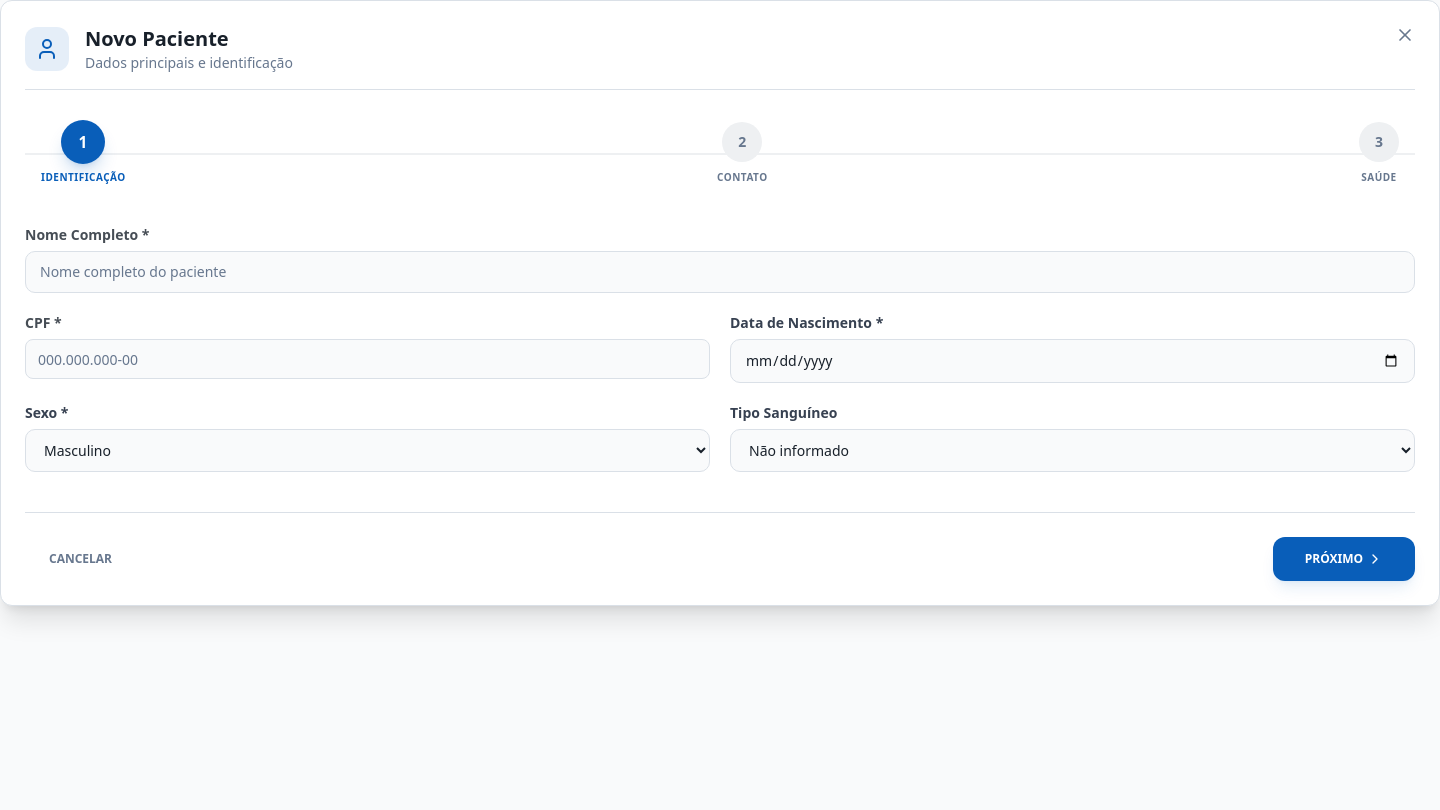
Test case: InlinePatientForm › navigates through steps correctly with validation
Note: Fill required fields
Step 1. Type "John Doe" into the field labelled "Nome Completo *" → (720, 272), box [25,251,1415,293]
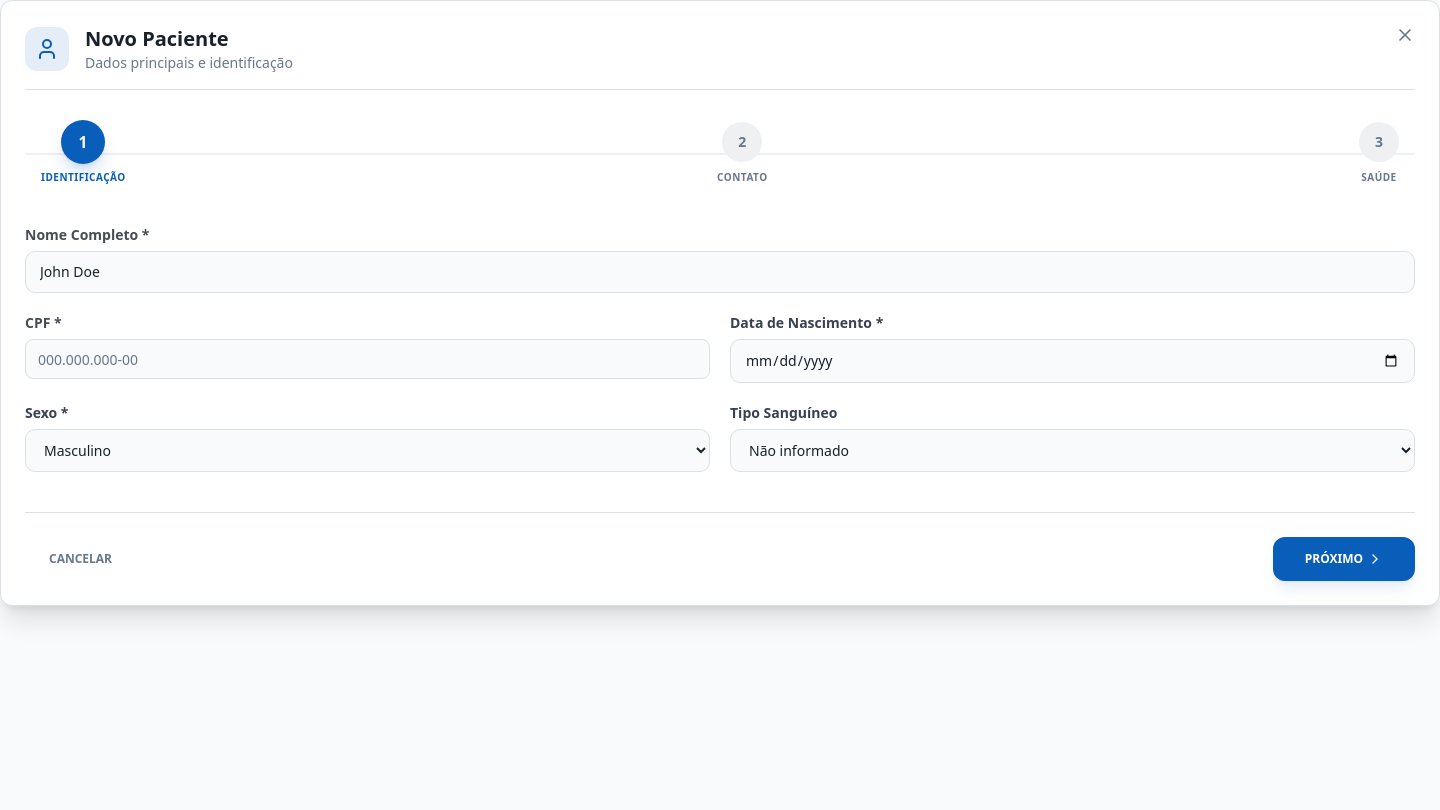
Step 2. Type "12345678900" into the field labelled "CPF *" → (368, 359), box [25,339,710,379]
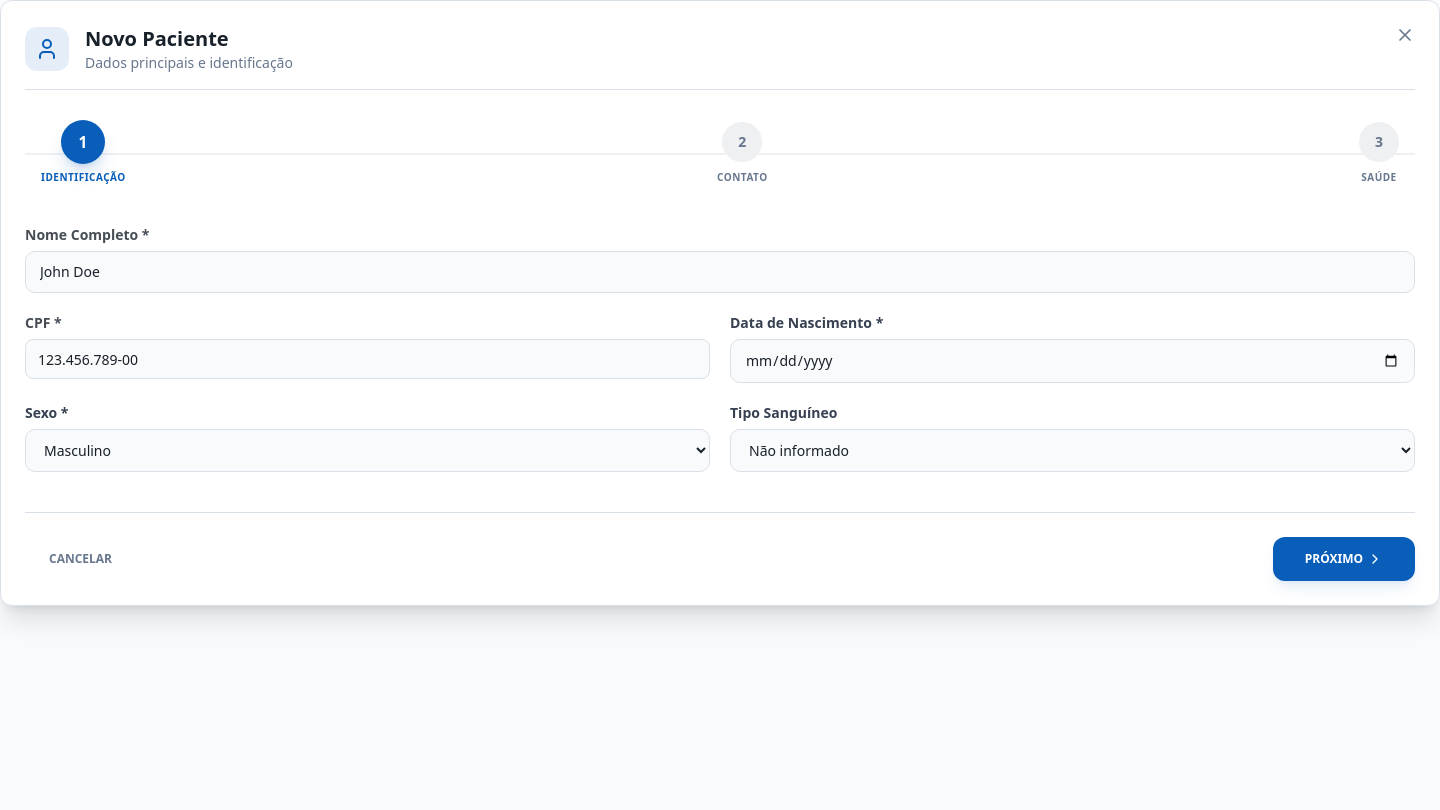
Step 3. Type "1990-01-01" into the date field labelled "Data de Nascimento *" → (1072, 361), box [730,339,1415,383]
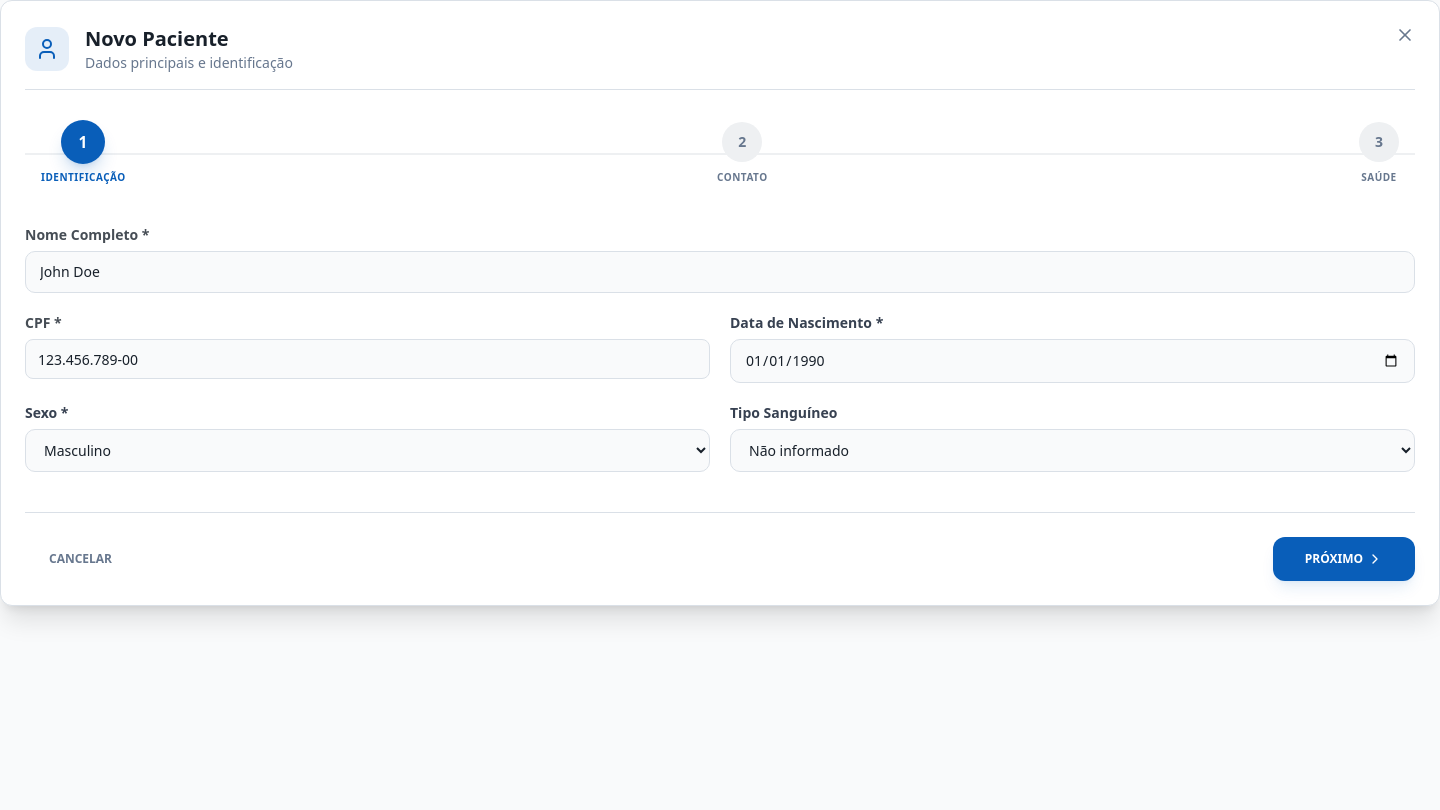
Step 4. Click the button "Próximo" → (1344, 559), box [1273,537,1415,581]
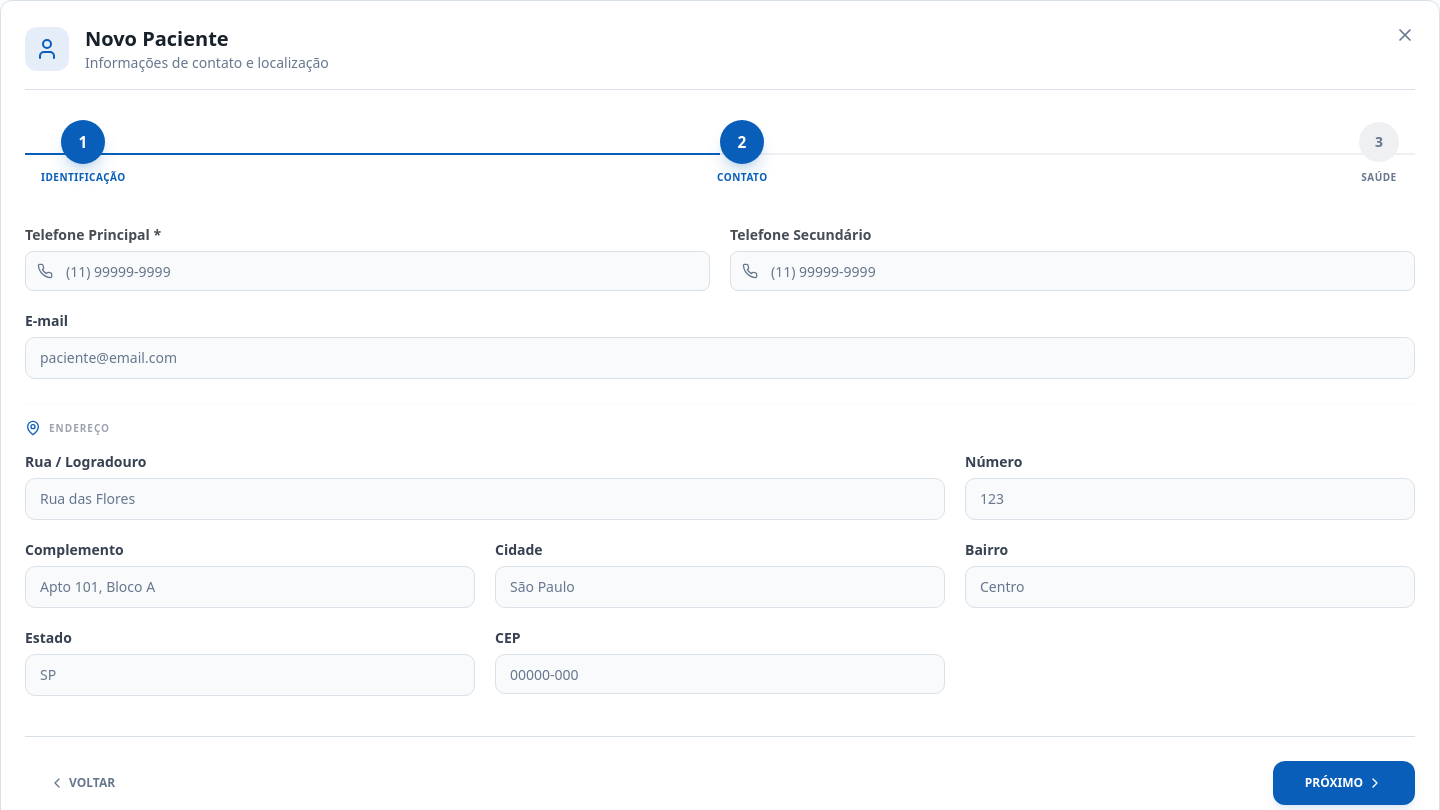
Check: the text "Contato" is shown, box [717,170,768,185]
Check: the field labelled "Telefone Principal *" is shown
Note: Fill phone
Step 5. Type "11999999999" into the field labelled "Telefone Principal *" → (368, 271), box [25,251,710,291]
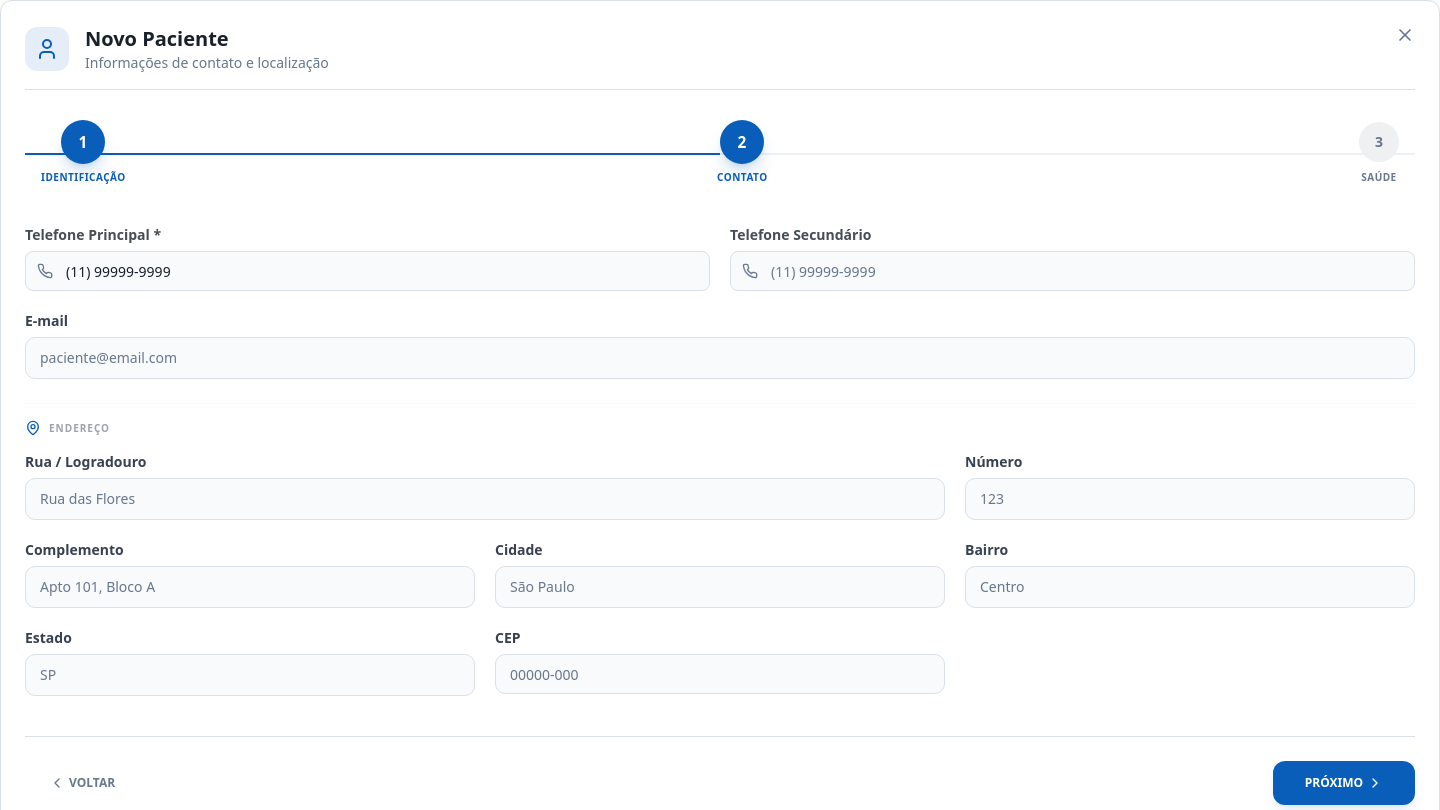
Step 6. Click the button "Próximo" → (1344, 783), box [1273,761,1415,805]
(page scrolled)
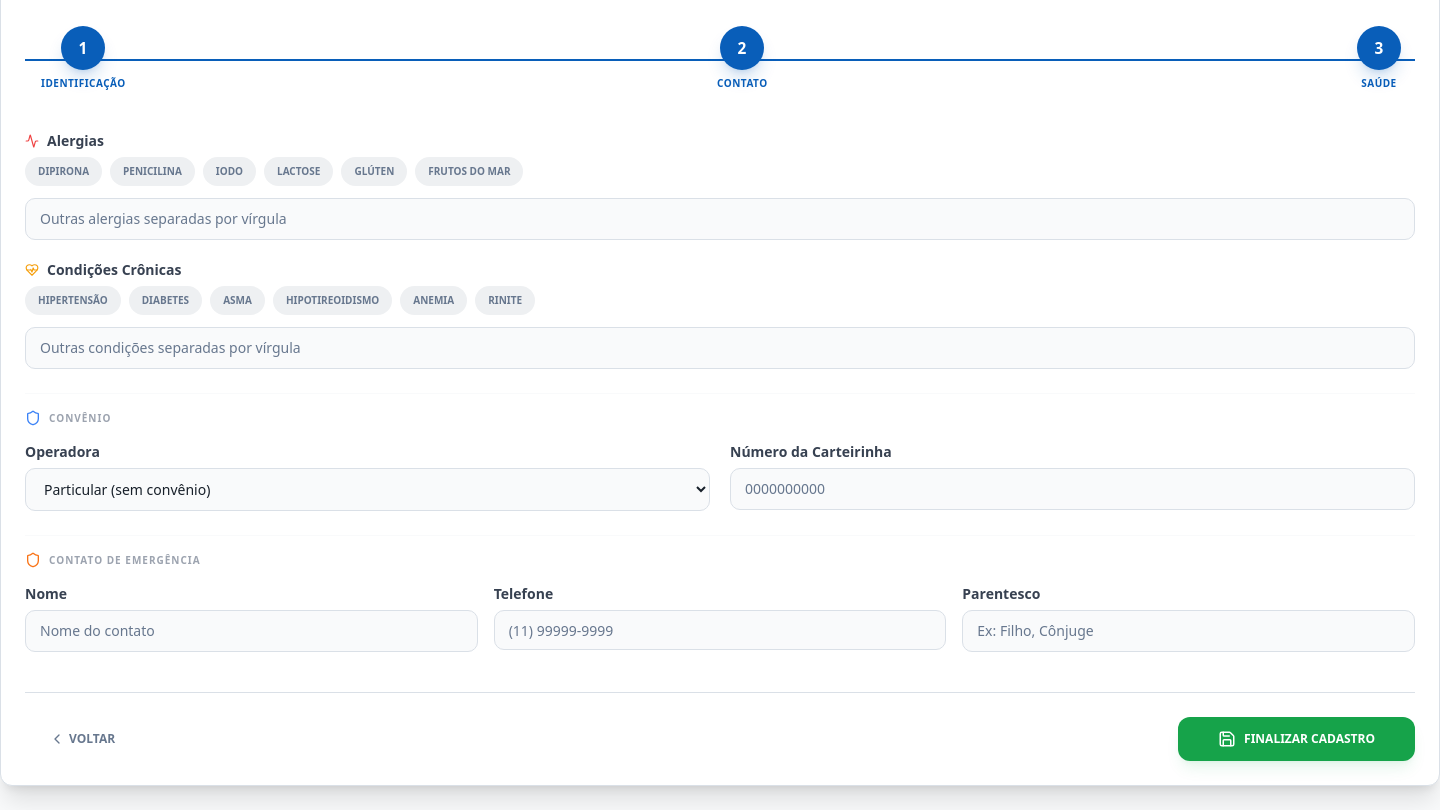
Check: the text "Saúde" is shown, box [1361,76,1397,91]
Check: the button "Finalizar Cadastro" is shown, box [1178,717,1415,761]
